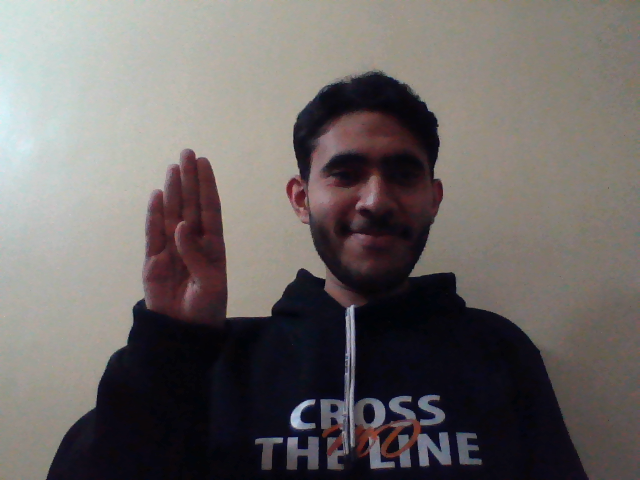B: (137, 145, 228, 332)
